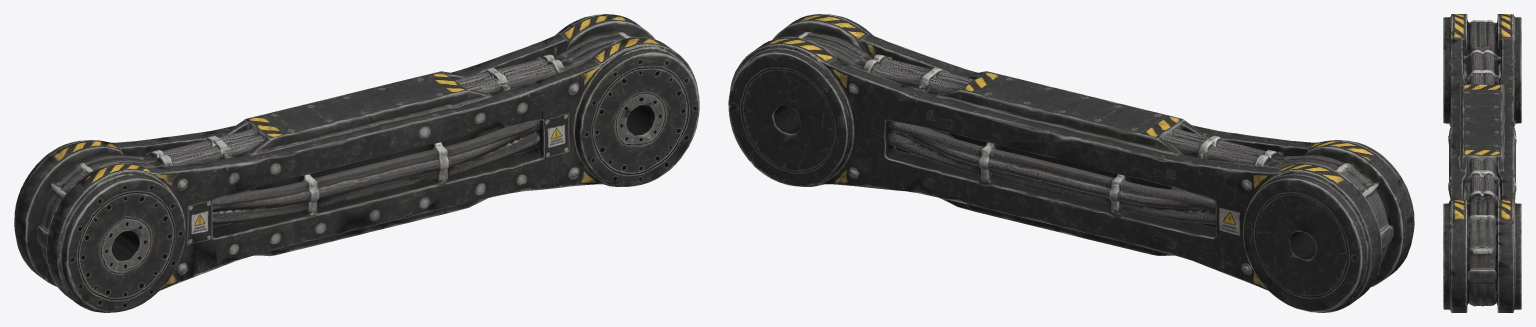
The model's file is segmento.glb.
The picture shows the model from 3 angles, left to right: view 1: azimuth 30°, elevation 25°; view 2: azimuth 150°, elevation 25°; view 3: azimuth 270°, elevation 25°; orthographic projection. The views are drawn at different scales.
Bounding box in the file's own units: 1.9 × 0.3945 × 0.2716.
Materials: 1 (1 with a texture image).
